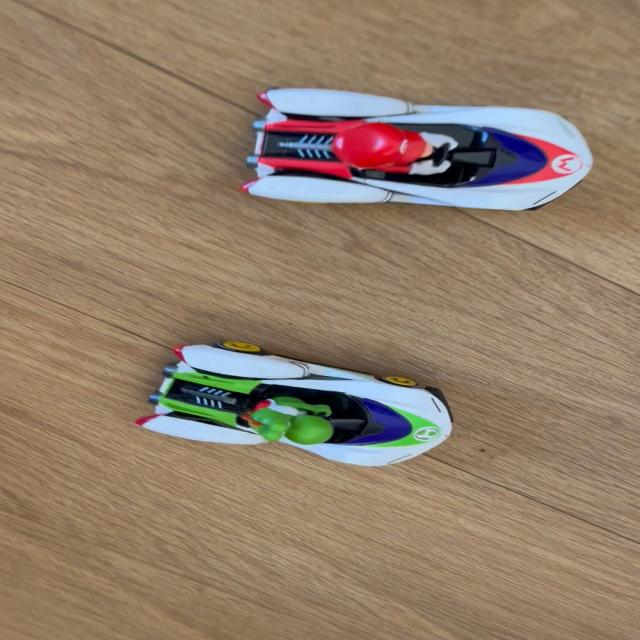mario: (231, 85, 598, 219)
yoshi: (142, 344, 474, 479)
